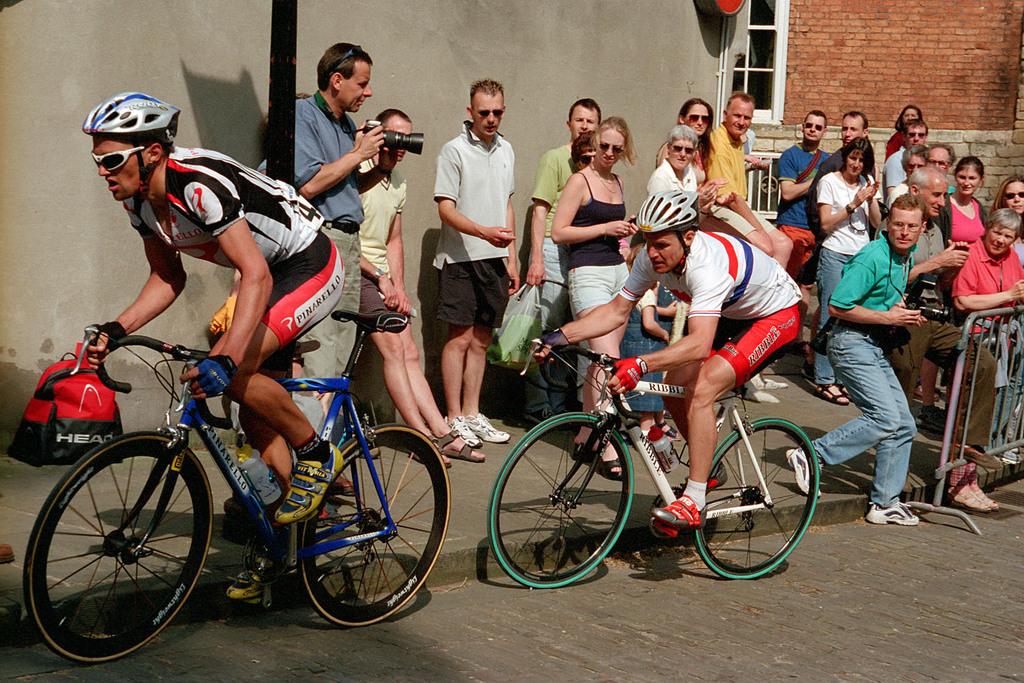Bike: (23, 309, 457, 666), (489, 327, 829, 598)
